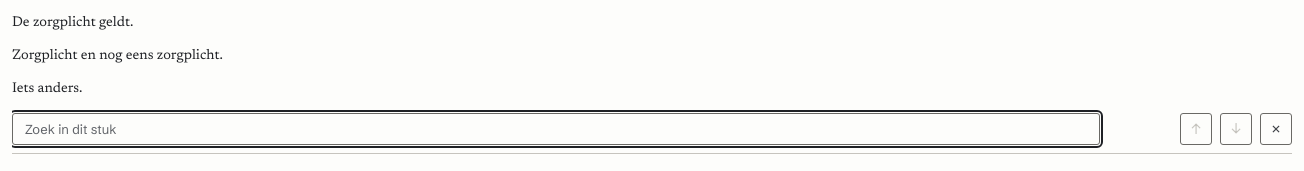
SearchInText › counts the hits and steps through them
The image size is (1304, 171).
Type "zorgplicht" into the search field labelled "Zoek in dit stuk" at (556, 129), box [12,113,1100,145]
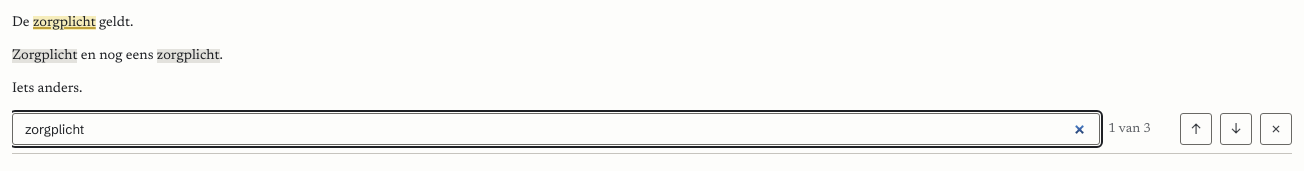
Now the message reads "1 van 3", box [1108,122,1151,135]
Click the button named "Volgende treffer" at (1236, 129), box [1220,113,1252,145]
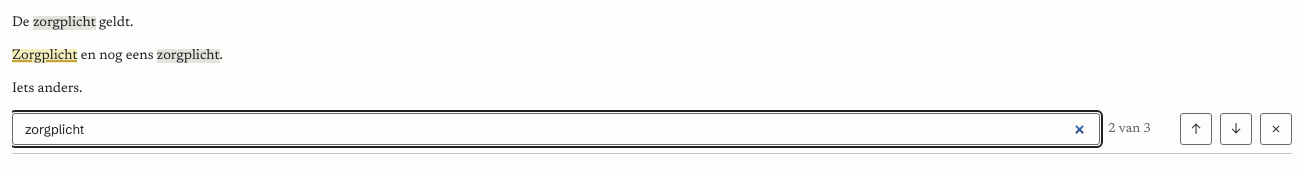
Now the message reads "2 van 3", box [1108,122,1151,135]
Click the button named "Vorige treffer" at (1196, 129), box [1180,113,1212,145]
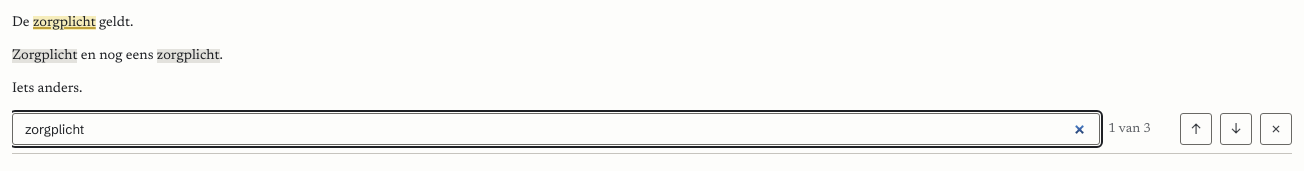
Click the button named "Vorige treffer" at (1196, 129), box [1180,113,1212,145]
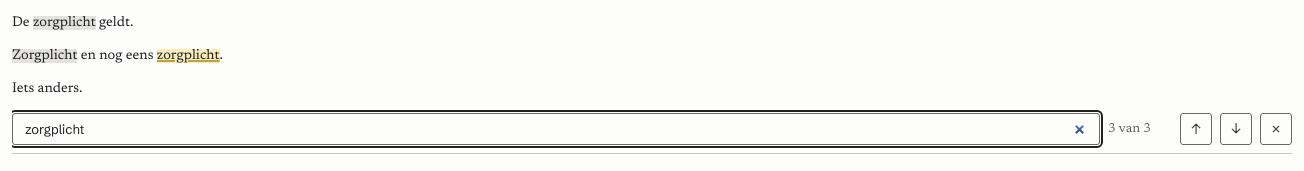
Now the message reads "3 van 3", box [1108,122,1151,135]
